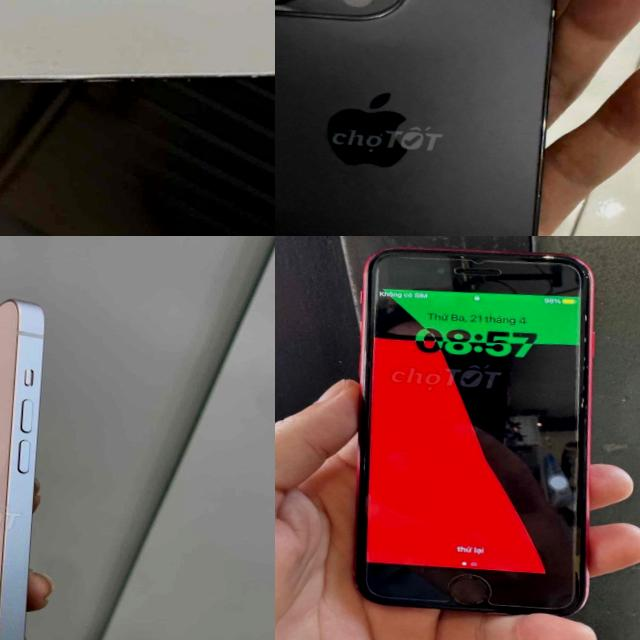gen_14: (275, 0, 589, 236), (0, 0, 275, 125), (0, 288, 85, 640)
gen_7_8: (306, 236, 625, 631)
